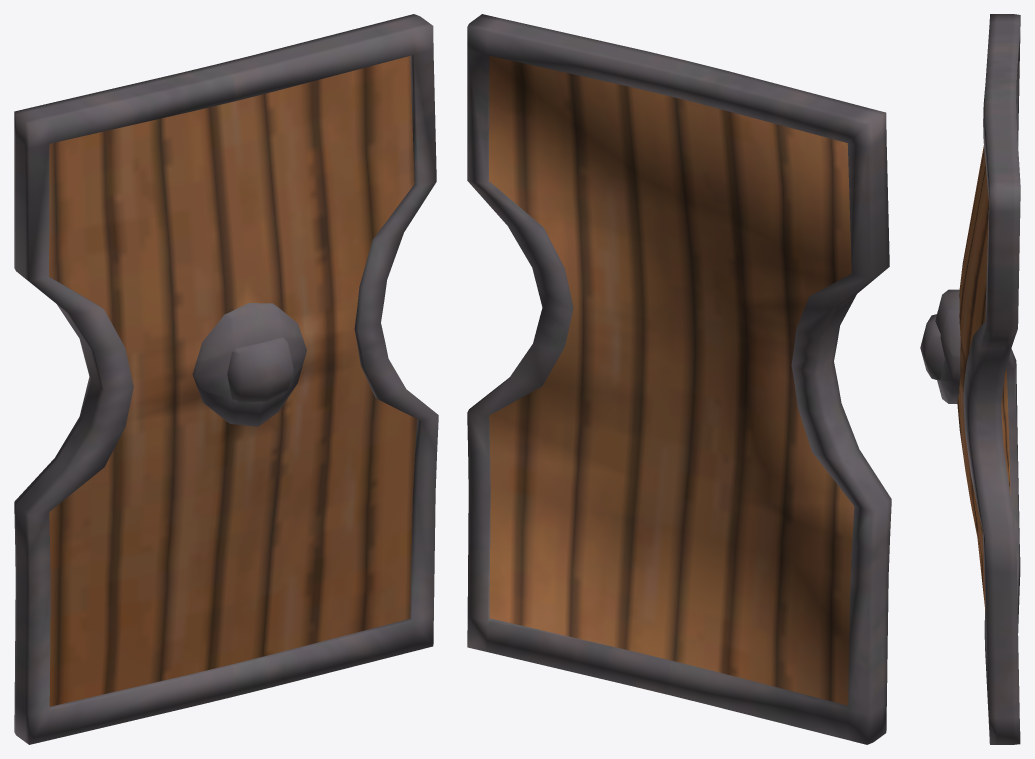
Rendered from ShieldIronSquare.fbx.
The picture shows the model from 3 angles, left to right: view 1: azimuth 30°, elevation 25°; view 2: azimuth 150°, elevation 25°; view 3: azimuth 270°, elevation 25°; orthographic projection. The views are drawn at different scales.
Visible parts, largest first — view 1: attach; view 2: attach; view 3: attach.
Part boxes in pixels (x1,y1,x2,y2): attach: [14, 14, 438, 744]; attach: [467, 14, 891, 744]; attach: [920, 14, 1020, 744].
Size of the model in its own units: 0.675 by 0.9773 by 0.1603.
Materials: 1 (1 with a texture image).
